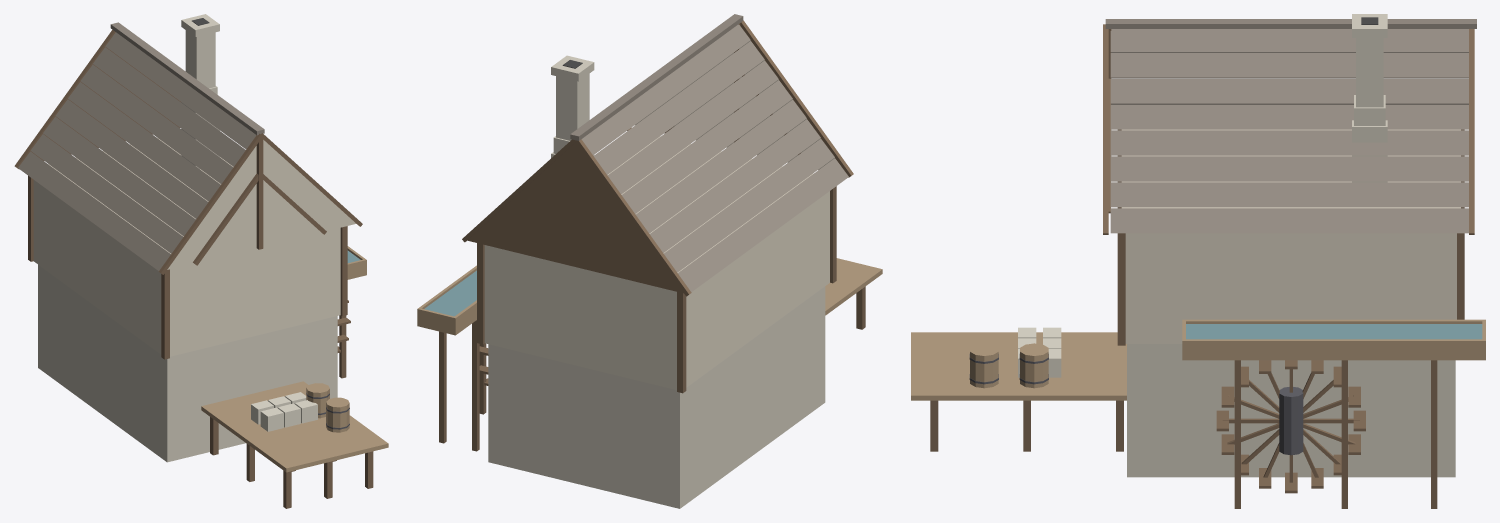
The model's file is watermill.glb.
3 renders of one model, left to right at view 1: azimuth 30°, elevation 25°; view 2: azimuth 150°, elevation 25°; view 3: azimuth 270°, elevation 25°, orthographic. The views are drawn at different scales.
Visible parts, largest first — view 1: Watermill; view 2: Watermill; view 3: Watermill.
Part boxes in pixels (<box>): Watermill: <box>14,14,388,508</box>; Watermill: <box>417,14,882,508</box>; Watermill: <box>911,14,1485,508</box>.
Bounding box in the file's own units: 9.75 × 13.32 × 16.1.
